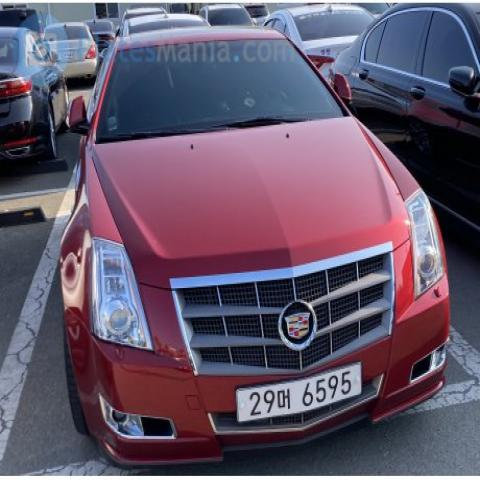LP: (228, 354, 369, 440)
